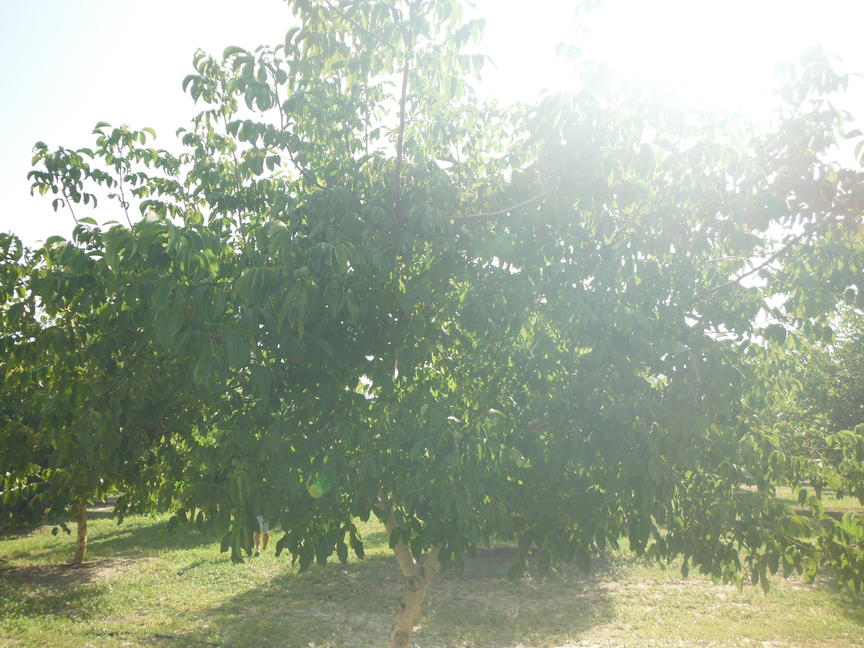walnut: (229, 455, 242, 468), (291, 266, 302, 280), (228, 505, 240, 517), (299, 264, 310, 277), (348, 457, 359, 468), (463, 496, 473, 507), (453, 432, 463, 441), (462, 490, 472, 498)
